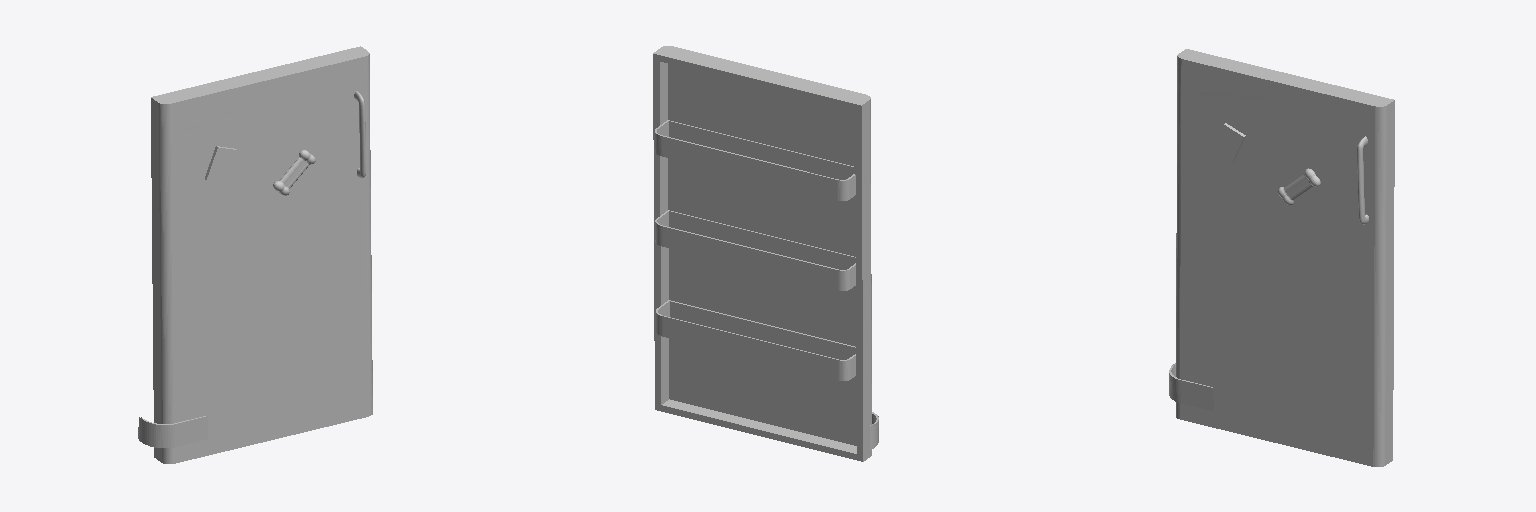
File: Abajo_Refrigerador.obj
The picture shows the model from 3 angles: view 1: azimuth 30°, elevation 25°; view 2: azimuth 150°, elevation 25°; view 3: azimuth 330°, elevation 25°; orthographic projection.
Visible parts, largest first — view 1: House_CatDog:puerta_abajo1:polySurface133; view 2: House_CatDog:puerta_abajo1:polySurface133; view 3: House_CatDog:puerta_abajo1:polySurface133.
Part boxes in pixels (x1,y1,x2,y2): House_CatDog:puerta_abajo1:polySurface133: (138, 46, 372, 463); House_CatDog:puerta_abajo1:polySurface133: (653, 46, 878, 461); House_CatDog:puerta_abajo1:polySurface133: (1169, 49, 1394, 466).
Size of the model in its own units: 2.97 by 4.61 by 0.695.